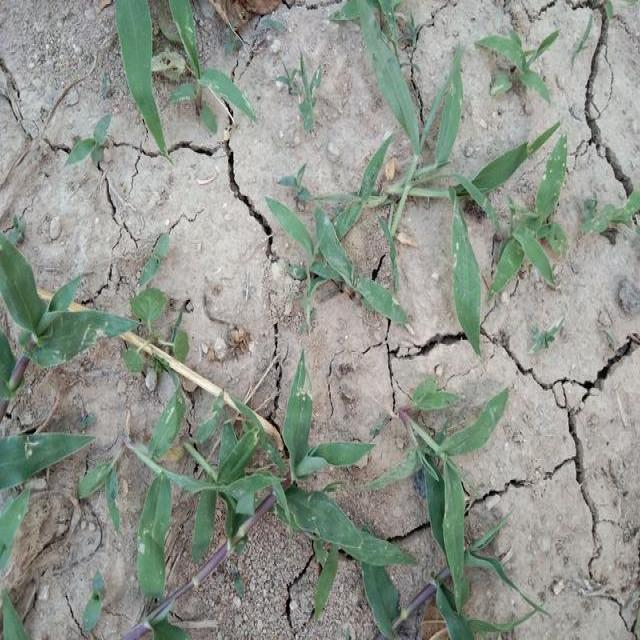weed: (0, 236, 134, 640), (286, 347, 407, 633), (131, 398, 287, 584), (426, 142, 580, 330), (254, 190, 416, 325), (410, 390, 512, 604), (118, 0, 260, 149), (366, 35, 482, 185), (474, 28, 555, 116), (262, 42, 328, 140), (77, 114, 109, 188)
